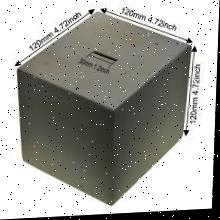cube: (15, 10, 193, 211)
